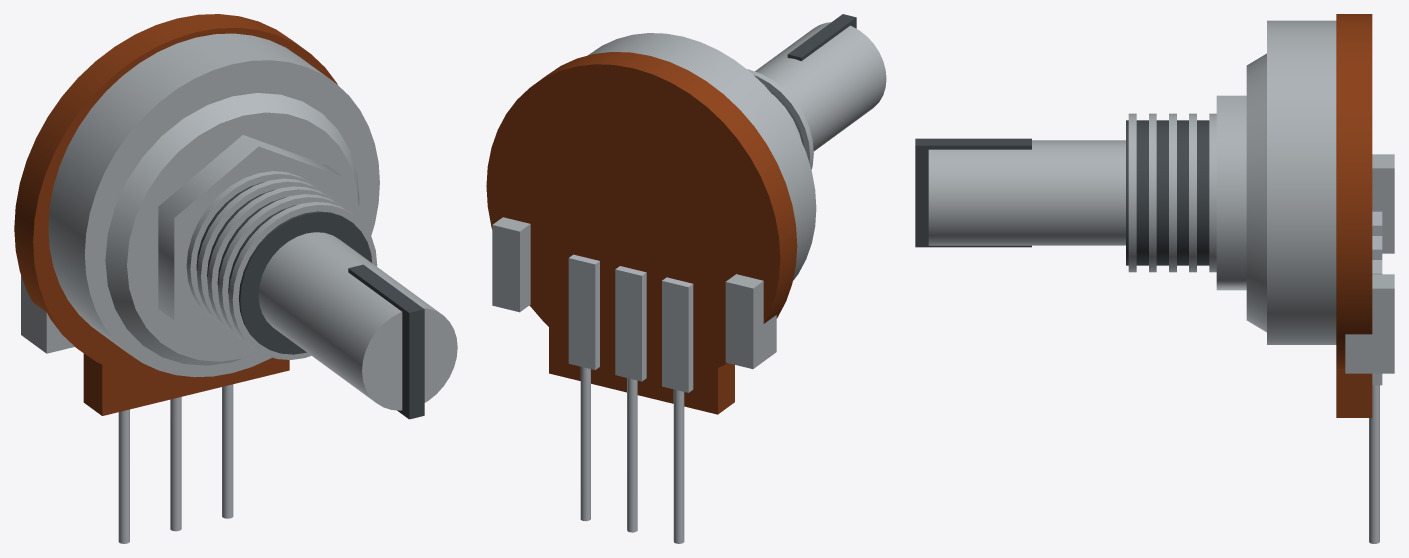
File: potentiometer-10k.glb
The picture shows the model from 3 angles, left to right: view 1: azimuth 30°, elevation 25°; view 2: azimuth 150°, elevation 25°; view 3: azimuth 270°, elevation 25°; orthographic projection. The views are drawn at different scales.
Parts seen in each view (by area): view 1: pot_metal_can, pot_retaining_plate, pot_shaft, pot_phenolic_wafer, pot_hex_nut, pot_bushing, pot_terminal_tab, pot_shaft_slot, pot_thread_5, pot_thread_2, pot_thread_3, pot_thread_4 (+5 smaller); view 2: pot_phenolic_wafer, pot_metal_can, pot_shaft, pot_terminal_tab, pot_mounting_tab_1, pot_solder_lug_2, pot_solder_lug_3, pot_solder_lug_1, pot_mounting_tab_2, pot_lead_1, pot_lead_2, pot_lead_3 (+2 smaller); view 3: pot_metal_can, pot_shaft, pot_phenolic_wafer, pot_bushing, pot_hex_nut, pot_retaining_plate, pot_mounting_tab_2, pot_shaft_slot, pot_mounting_tab_1, pot_terminal_tab, pot_lead_3, pot_thread_5 (+4 smaller).
Boxes of the visible parts, x1,y1,x2,y2 form: pot_metal_can: [48, 33, 379, 377]; pot_retaining_plate: [105, 93, 359, 365]; pot_shaft: [258, 232, 457, 410]; pot_phenolic_wafer: [14, 14, 337, 377]; pot_hex_nut: [158, 135, 343, 349]; pot_bushing: [196, 182, 371, 354]; pot_terminal_tab: [83, 342, 289, 415]; pot_shaft_slot: [348, 264, 424, 419]; pot_thread_5: [228, 202, 377, 359]; pot_thread_2: [197, 178, 325, 327]; pot_thread_3: [207, 186, 335, 334]; pot_thread_4: [218, 194, 346, 342]; pot_phenolic_wafer: [486, 52, 797, 379]; pot_metal_can: [588, 33, 816, 280]; pot_shaft: [755, 22, 886, 151]; pot_terminal_tab: [549, 271, 734, 414]; pot_mounting_tab_1: [725, 274, 776, 368]; pot_solder_lug_2: [615, 266, 646, 381]; pot_solder_lug_3: [568, 254, 599, 369]; pot_solder_lug_1: [662, 277, 693, 392]; pot_mounting_tab_2: [492, 217, 530, 312]; pot_lead_1: [673, 389, 684, 543]; pot_lead_2: [627, 378, 637, 532]; pot_lead_3: [580, 367, 590, 521]; pot_metal_can: [1267, 20, 1336, 344]; pot_shaft: [928, 140, 1125, 245]; pot_phenolic_wafer: [1336, 14, 1372, 368]; pot_bushing: [1126, 120, 1209, 265]; pot_hex_nut: [1216, 95, 1246, 290]; pot_retaining_plate: [1246, 53, 1266, 332]; pot_mounting_tab_2: [1345, 274, 1394, 373]; pot_shaft_slot: [915, 138, 1031, 247]; pot_mounting_tab_1: [1372, 154, 1394, 253]; pot_terminal_tab: [1336, 369, 1372, 417]; pot_lead_3: [1369, 385, 1379, 543]; pot_thread_5: [1128, 113, 1136, 272].
Size of the model in its own units: 0.016 by 0.024 by 0.0214.
